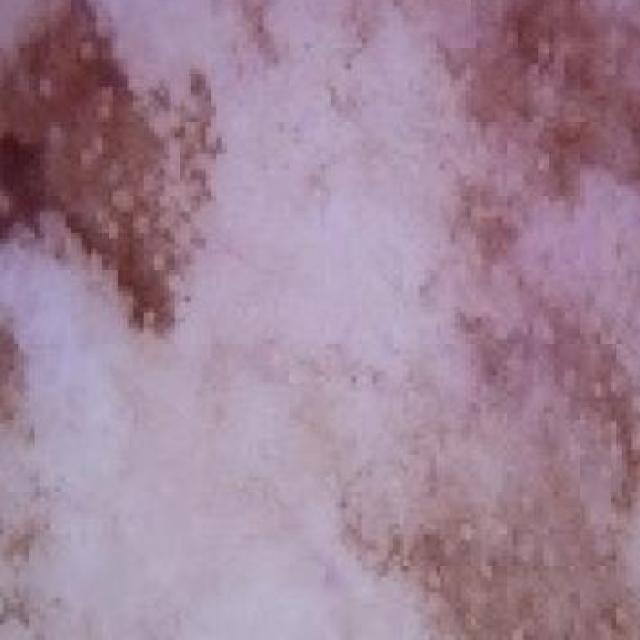BKL: (247, 0, 640, 640), (0, 0, 255, 453)
